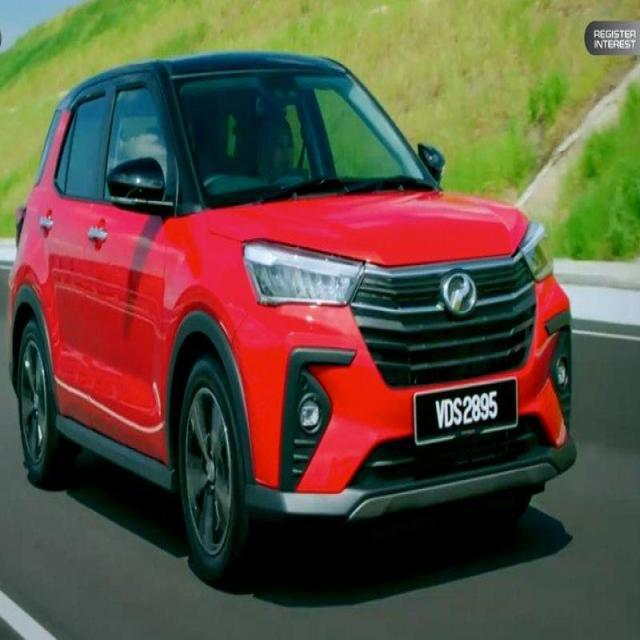PeroduaAtiva: (6, 48, 578, 583)
